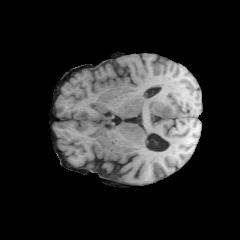glioma: (143, 83, 172, 117)
